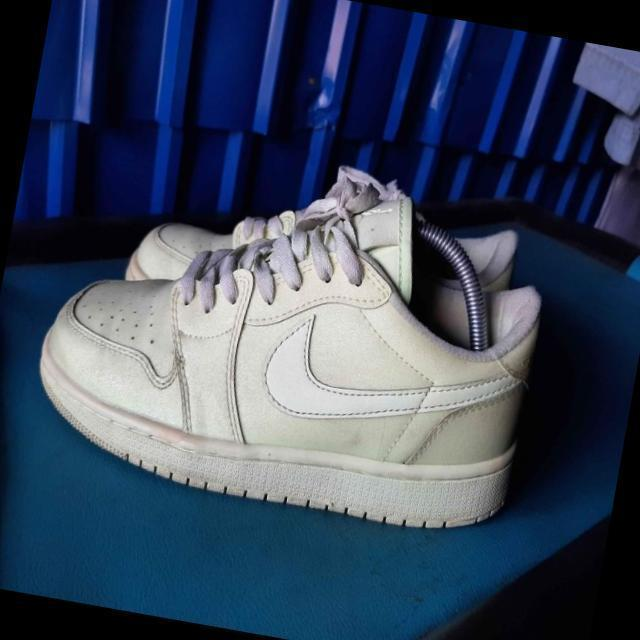nike fake jordan 1: (19, 136, 560, 544)
